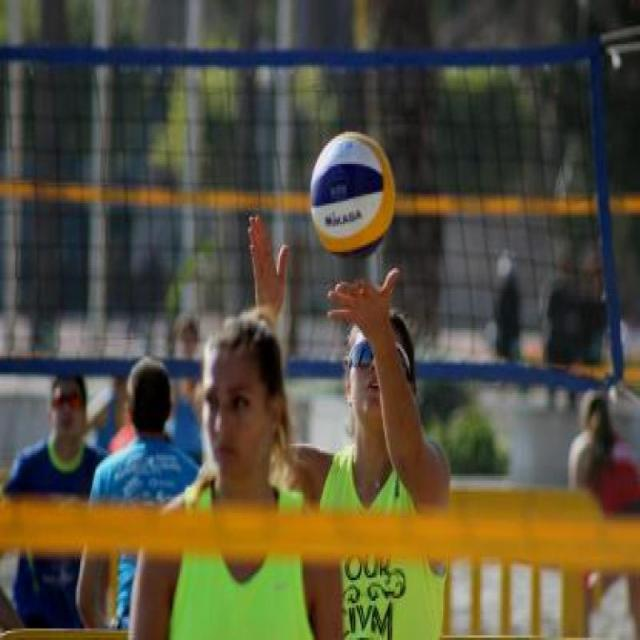volleyball: (308, 132, 396, 258)
